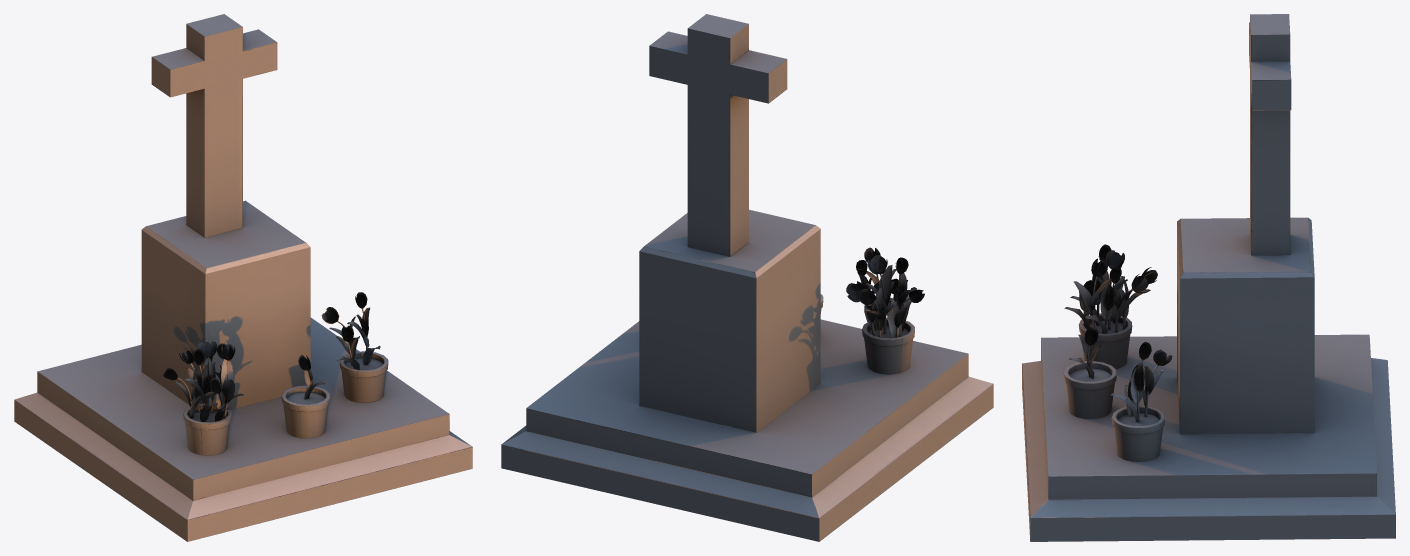
Rendered from cross.glb.
3 views of the same model, side by side, from view 1: azimuth 30°, elevation 25°; view 2: azimuth 150°, elevation 25°; view 3: azimuth 270°, elevation 25° (orthographic). The views are drawn at different scales.
Visible parts, largest first — view 1: Tulip2; view 2: Tulip2; view 3: Tulip2.
Part boxes in pixels (<box>): Tulip2: <box>14,14,472,541</box>; Tulip2: <box>501,14,993,541</box>; Tulip2: <box>1022,14,1395,541</box>.
Size of the model in its own units: 3.03 by 3.92 by 3.03.
Materials: 1 (1 with a texture image).
